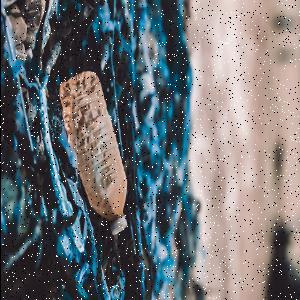Plastic-bottle: (60, 71, 129, 237)
